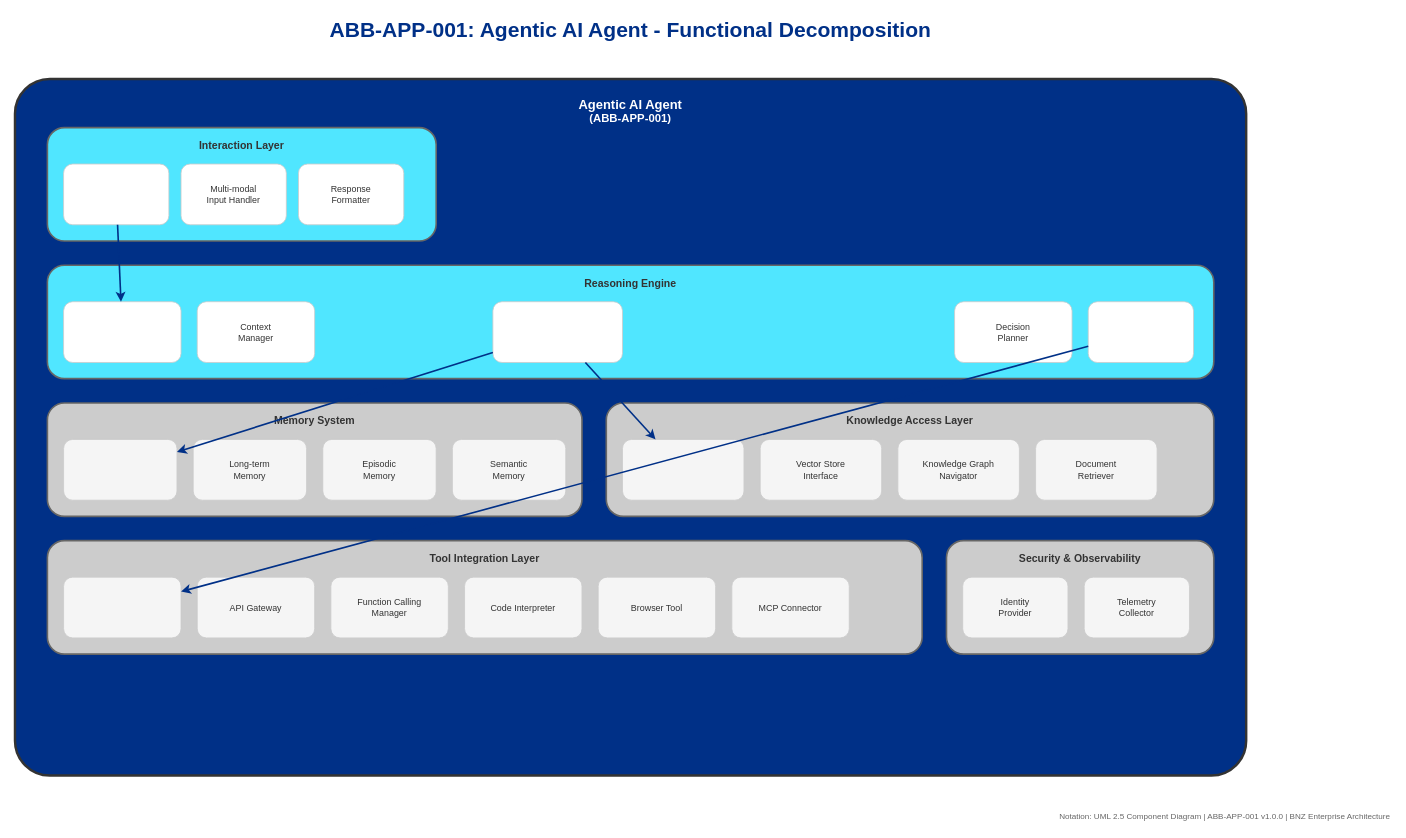
This 1406x838 diagram has some shape labels left out. The centre of each missing label's shape, as x and y in pixels:
"Action Orchestrator" goes at (x=1140, y=331).
"Foundation Model Interface (Prompt Engineering)" goes at (x=557, y=331).
"Intent Classifier" goes at (x=122, y=331).
"Natural Language Interface" goes at (x=116, y=194).
"RAG Engine" goes at (x=683, y=469).
"Short-term Memory" goes at (x=120, y=469).
"Tool Registry" goes at (x=122, y=607).
